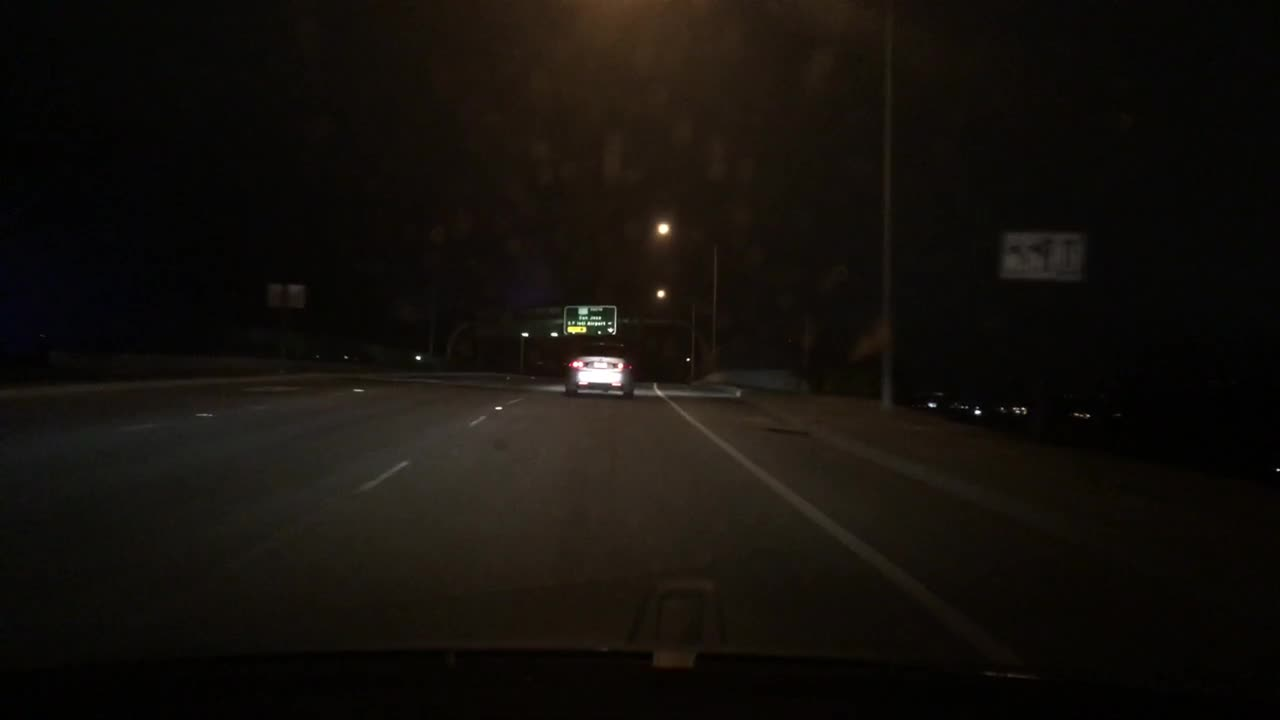car: (567, 341, 635, 396)
traffic sign: (1001, 230, 1084, 275), (512, 304, 560, 336), (567, 306, 615, 335), (476, 301, 511, 336), (268, 281, 301, 309)
